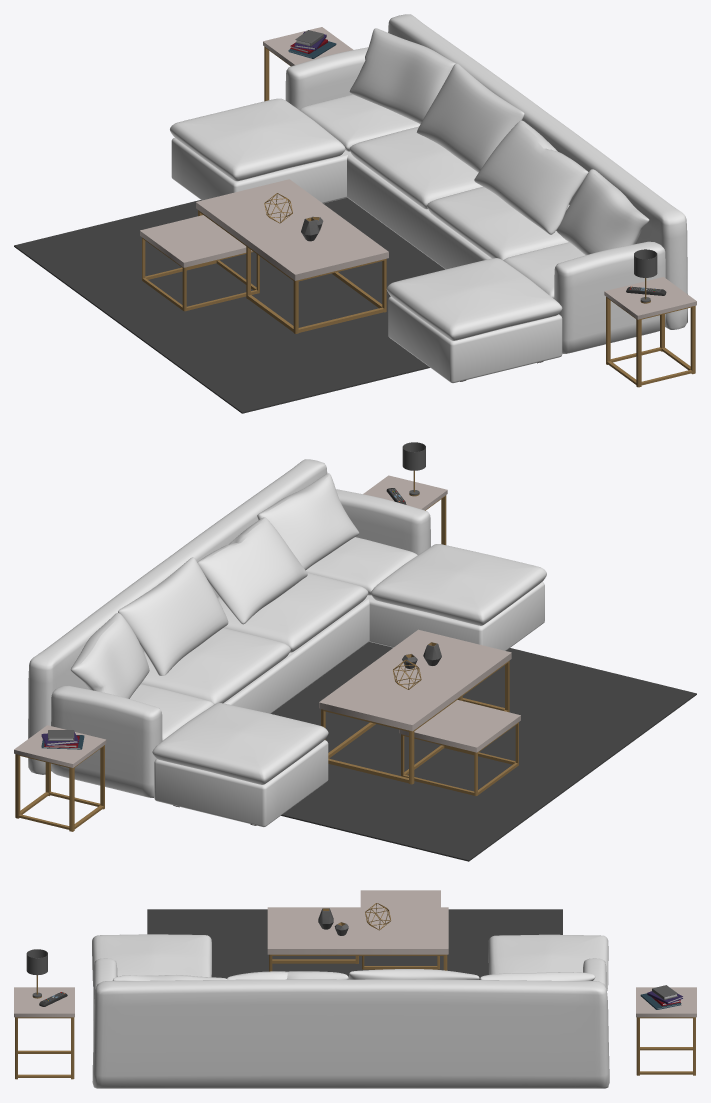
Rendered from living_room_kit.glb.
3 views of the same model, one above another, from view 1: azimuth 30°, elevation 25°; view 2: azimuth 150°, elevation 25°; view 3: azimuth 270°, elevation 25° (orthographic). The views are drawn at different scales.
Visible parts, largest first — view 1: Sofa, tapete, Mesa_Centro_G, Mesa_Centro_P, Mesa_Centro_P.002, Mesa_Centro_P.001, abajur; view 2: Sofa, tapete, Mesa_Centro_G, Mesa_Centro_P, Mesa_Centro_P.001, Mesa_Centro_P.002, abajur; view 3: Sofa, tapete, Mesa_Centro_G, Mesa_Centro_P.002, Mesa_Centro_P.001, Mesa_Centro_P, abajur.
Part boxes in pixels (x1,y1,x2,y2): Sofa: (170, 14, 687, 383); tapete: (14, 197, 445, 413); Mesa_Centro_G: (196, 179, 388, 333); Mesa_Centro_P: (140, 215, 259, 311); Mesa_Centro_P.002: (604, 277, 696, 387); Mesa_Centro_P.001: (263, 27, 353, 101); abajur: (634, 249, 657, 303); Sofa: (28, 459, 546, 827); tapete: (271, 642, 696, 861); Mesa_Centro_G: (319, 629, 511, 784); Mesa_Centro_P: (399, 700, 520, 795); Mesa_Centro_P.001: (14, 725, 106, 831); Mesa_Centro_P.002: (363, 475, 447, 544); abajur: (402, 442, 425, 496); Sofa: (92, 934, 609, 1088); tapete: (147, 909, 562, 979); Mesa_Centro_G: (267, 907, 448, 971); Mesa_Centro_P.002: (14, 987, 74, 1079); Mesa_Centro_P.001: (636, 987, 696, 1075); Mesa_Centro_P: (360, 890, 440, 969); abajur: (26, 949, 47, 998).
Size of the model in its own units: 3.31 by 0.938 by 5.13.
